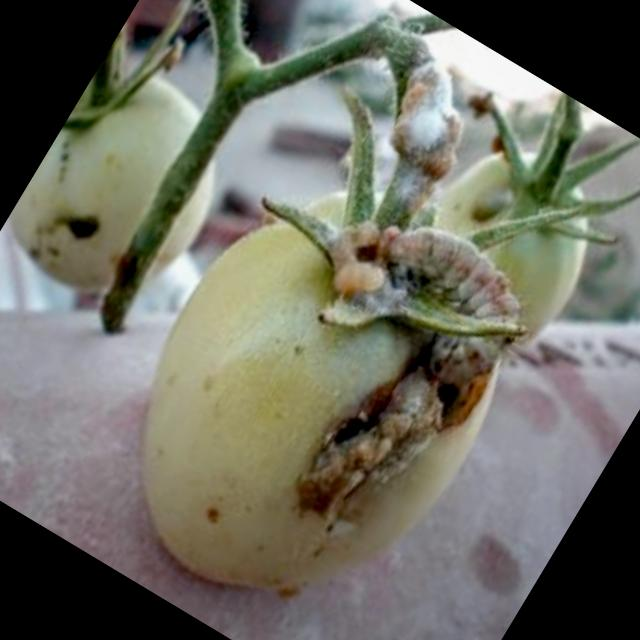Cotton bollworm: (286, 166, 578, 453)
